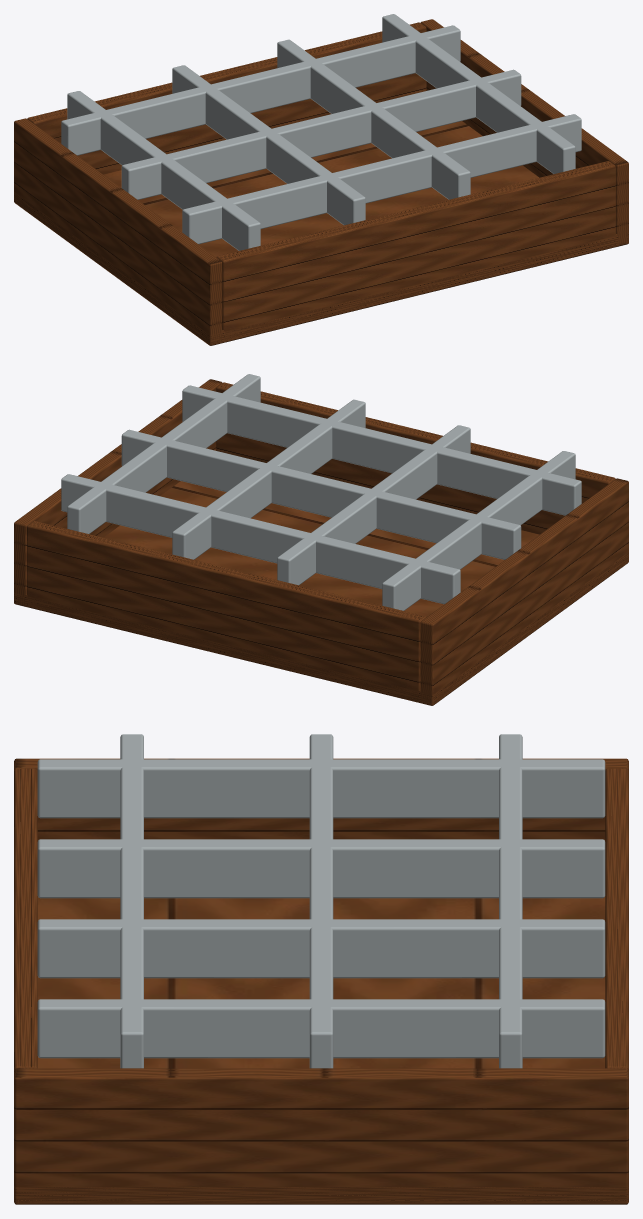
Rendered from creature-husbandry-and-transport-slow-feed-grid-936e2424__24002.glb.
3 views of the same model, one above another, from view 1: azimuth 30°, elevation 25°; view 2: azimuth 150°, elevation 25°; view 3: azimuth 270°, elevation 25° (orthographic). The views are drawn at different scales.
Parts seen in each view (by area): view 1: slow-feed-grid; view 2: slow-feed-grid; view 3: slow-feed-grid.
Part boxes in pixels (x1,y1,x2,y2): slow-feed-grid: [14, 14, 628, 345]; slow-feed-grid: [14, 374, 628, 705]; slow-feed-grid: [14, 734, 628, 1204].
Size of the model in its own units: 0.8 by 0.19 by 0.65.
Materials: 2 (1 with a texture image).
